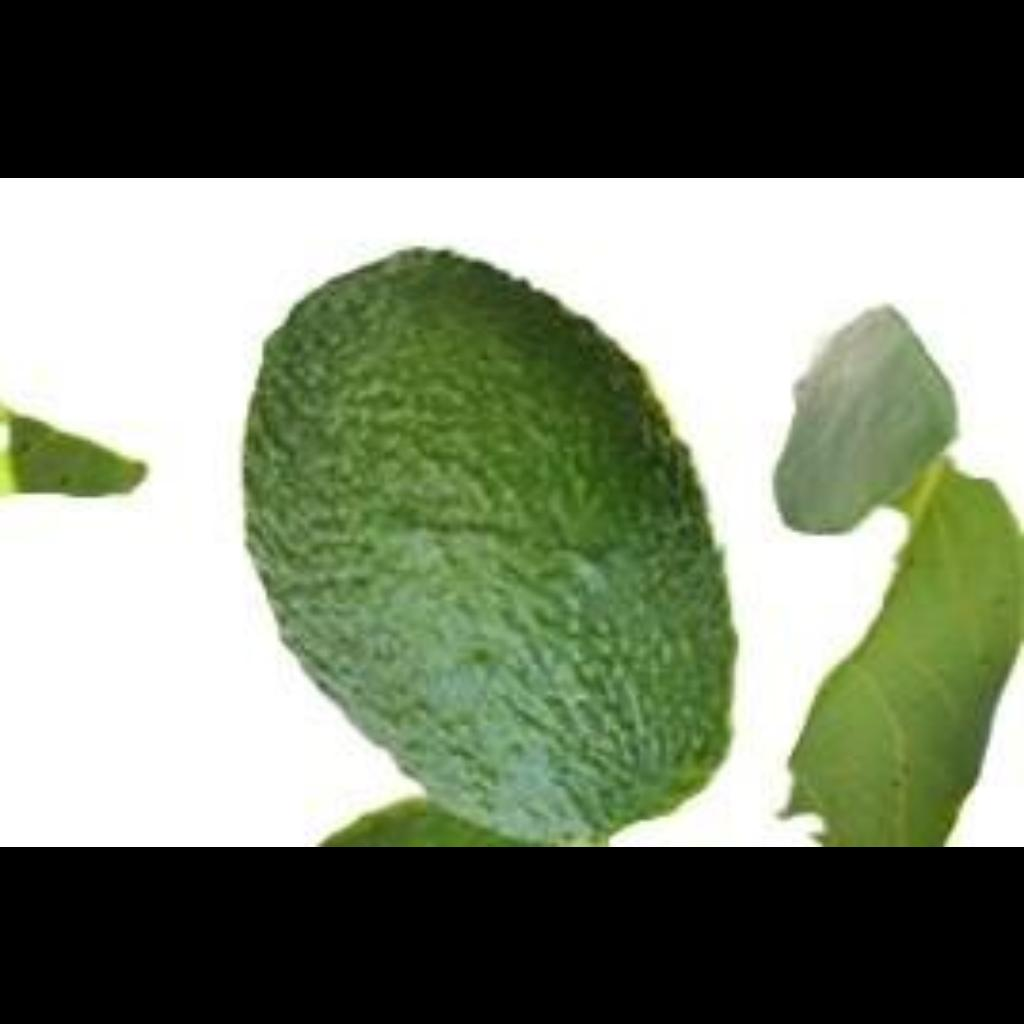fruto_sano: (239, 244, 739, 838)
